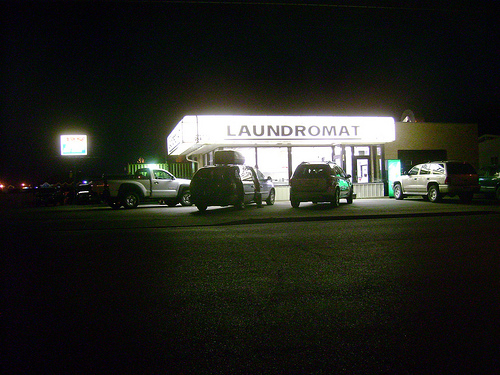car: (88, 166, 201, 212)
